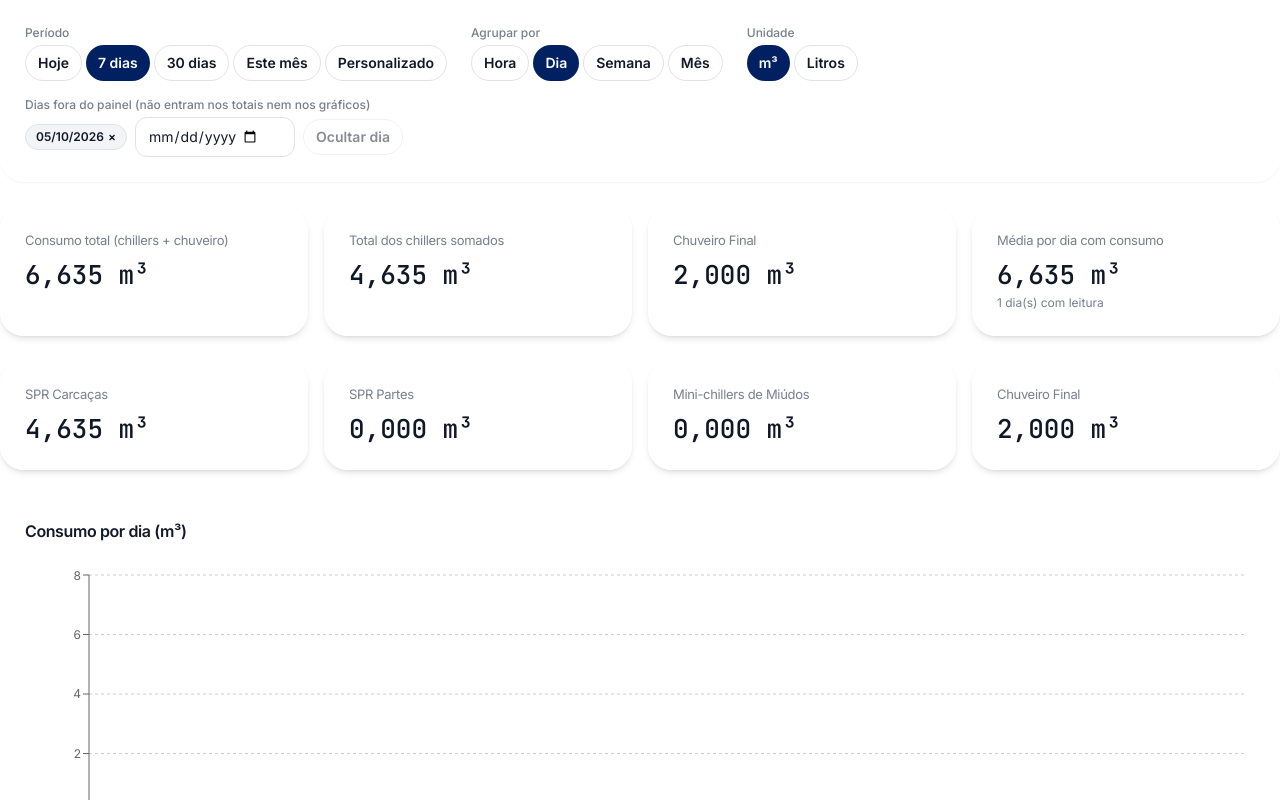
Painel de Indicadores — aba Consumo de água › hora a hora em período longo pede um período menor
The width and height of the screenshot is (1280, 800).
Click the button "Hora". click: (500, 63)
box: [471,45,529,81]
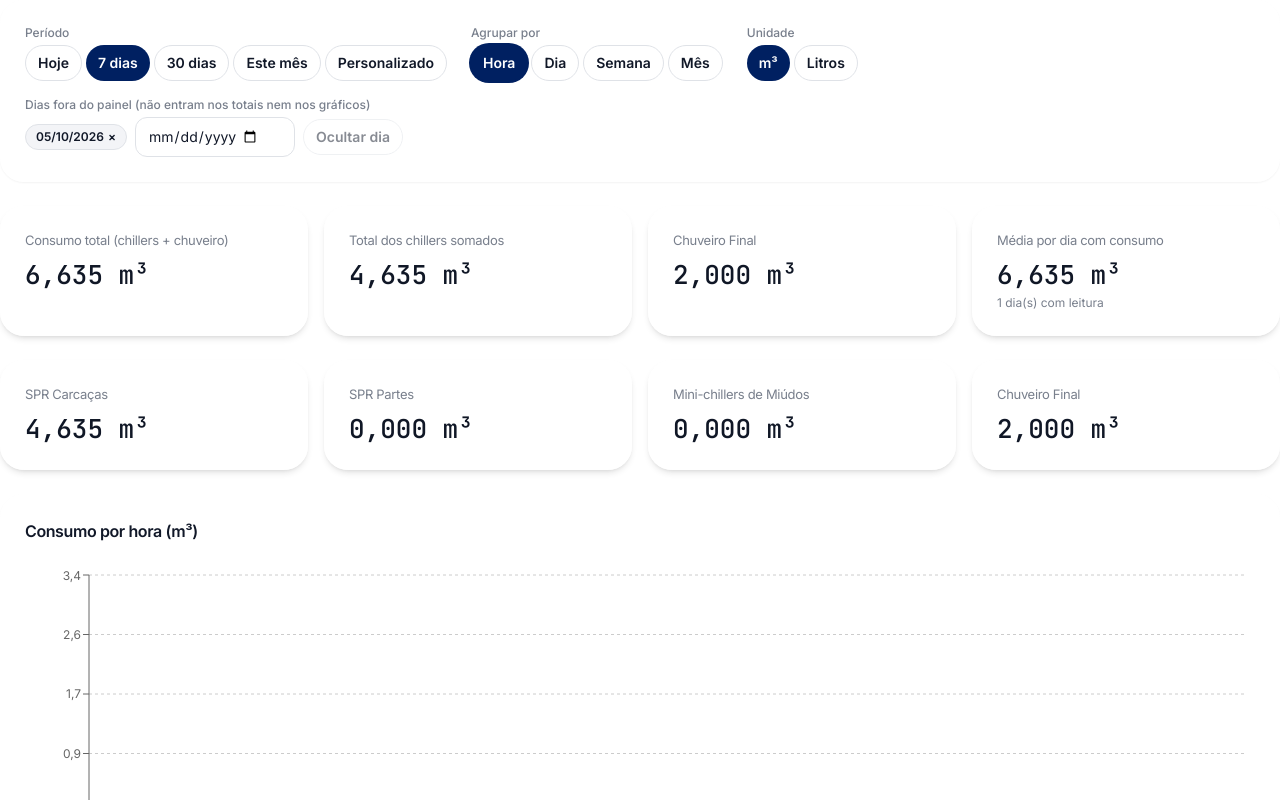
Click the button "Personalizado". click: (386, 63)
box: [325,45,447,81]
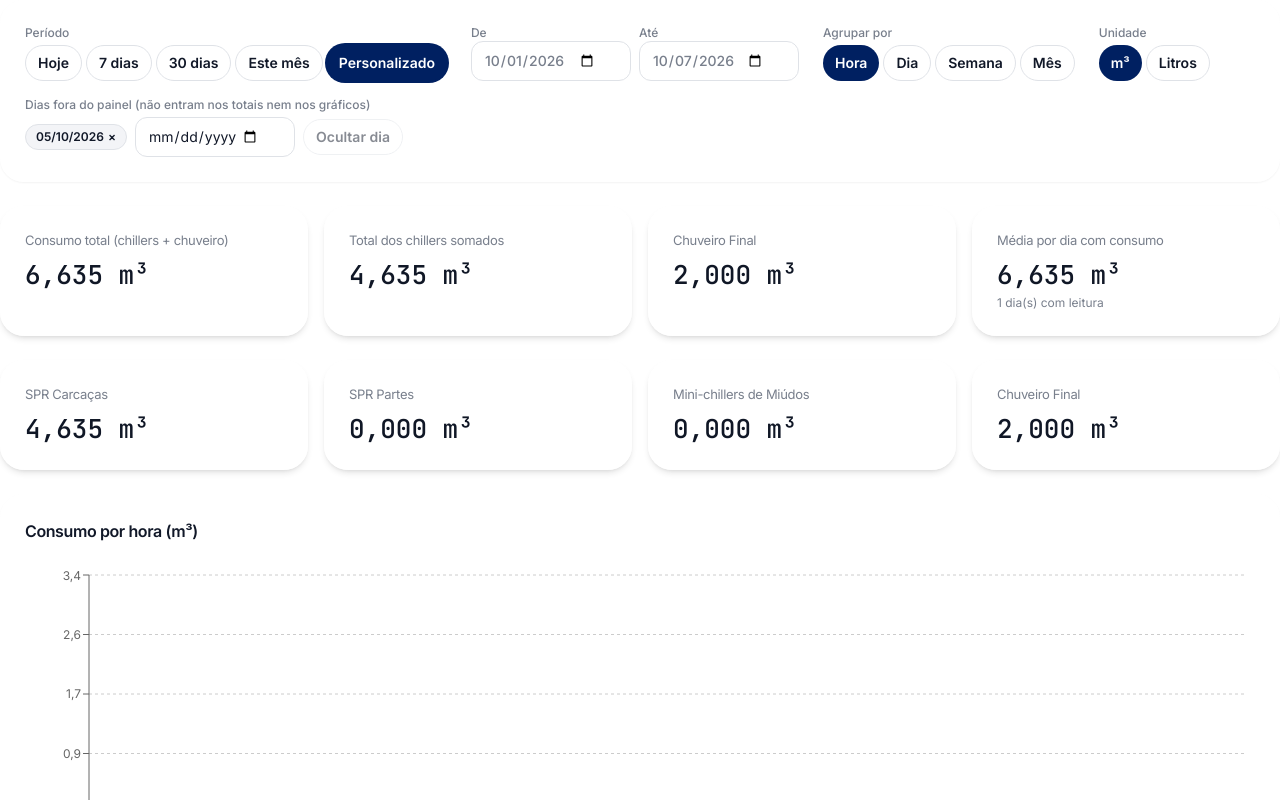
Type "2026-08-01" into the date field labelled "De". click: (551, 61)
box: [471,41,631,81]
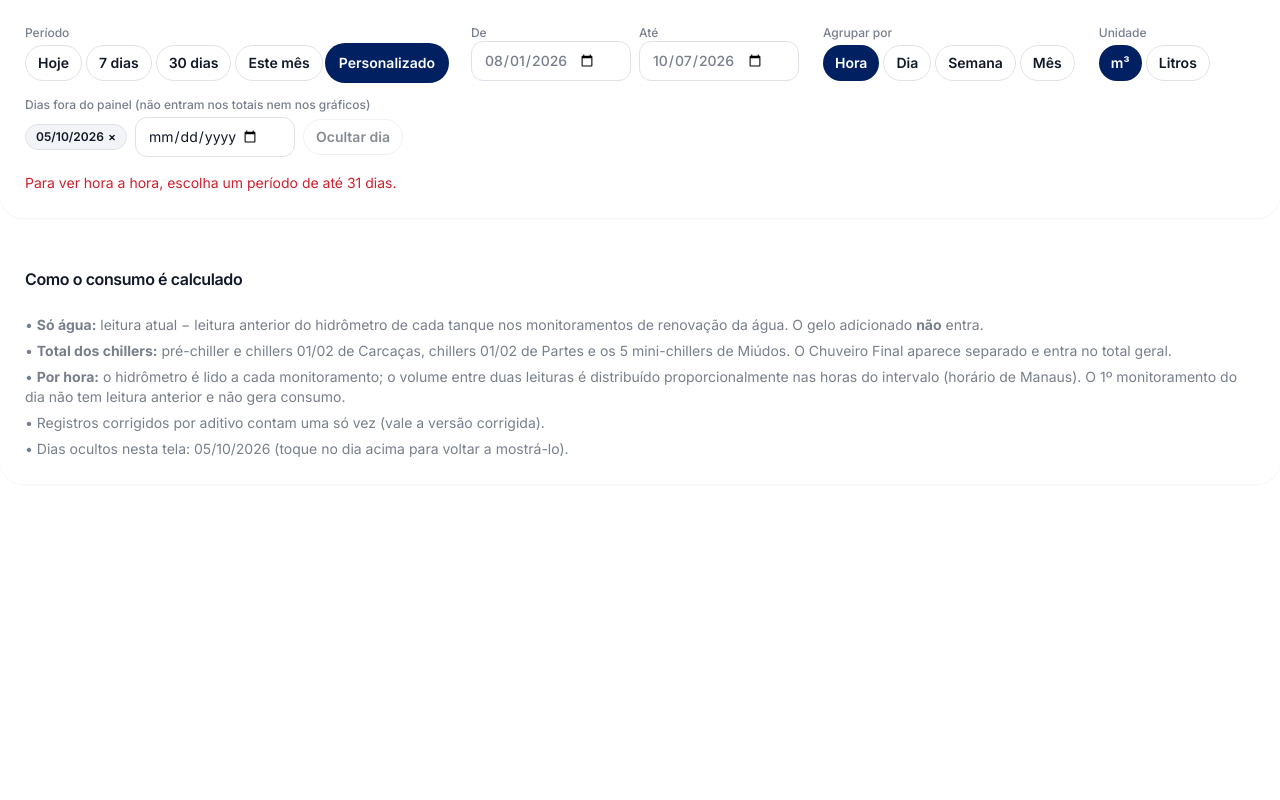
Expected: the text "Para ver hora a hora, escolha um período de até 31 dias." is shown, [25,174,396,191]
